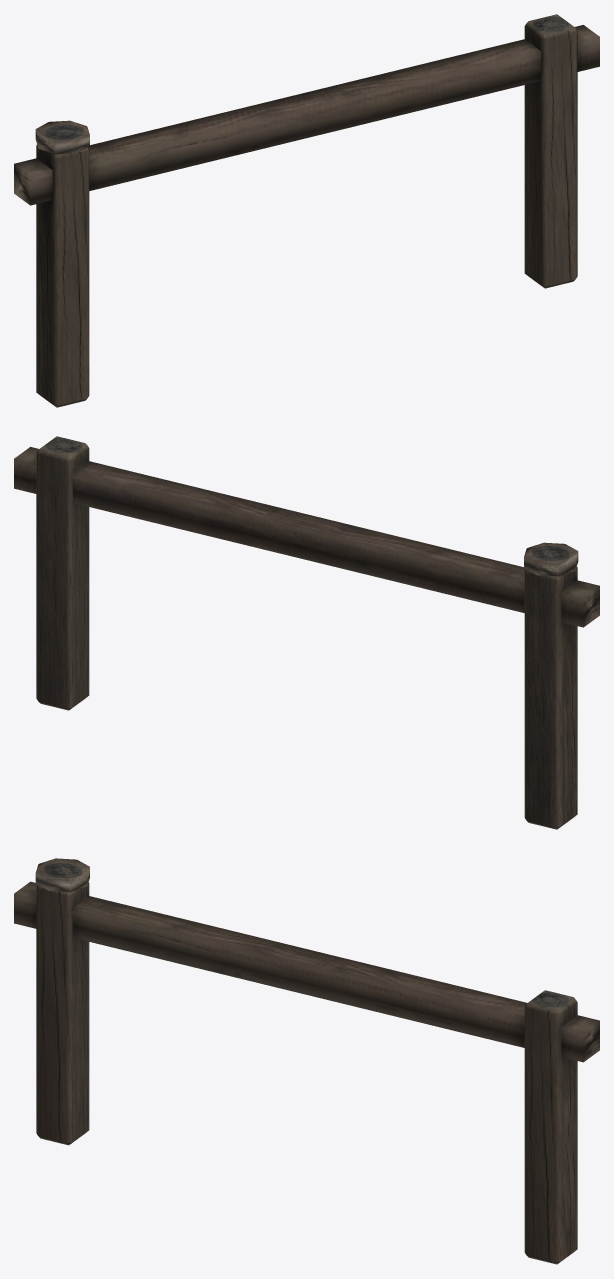
Rendered from hitching_post.glb.
3 views of the same model, one above another, from view 1: azimuth 30°, elevation 25°; view 2: azimuth 150°, elevation 25°; view 3: azimuth 330°, elevation 25° (orthographic).
Visible parts, largest first — view 1: hitching_post; view 2: hitching_post; view 3: hitching_post.
Part boxes in pixels (bbox=[...]): hitching_post: bbox=[14, 14, 599, 407]; hitching_post: bbox=[14, 436, 599, 829]; hitching_post: bbox=[14, 858, 599, 1264].
Size of the model in its own units: 2.8 by 1.25 by 0.24.
Materials: 1 (1 with a texture image).
